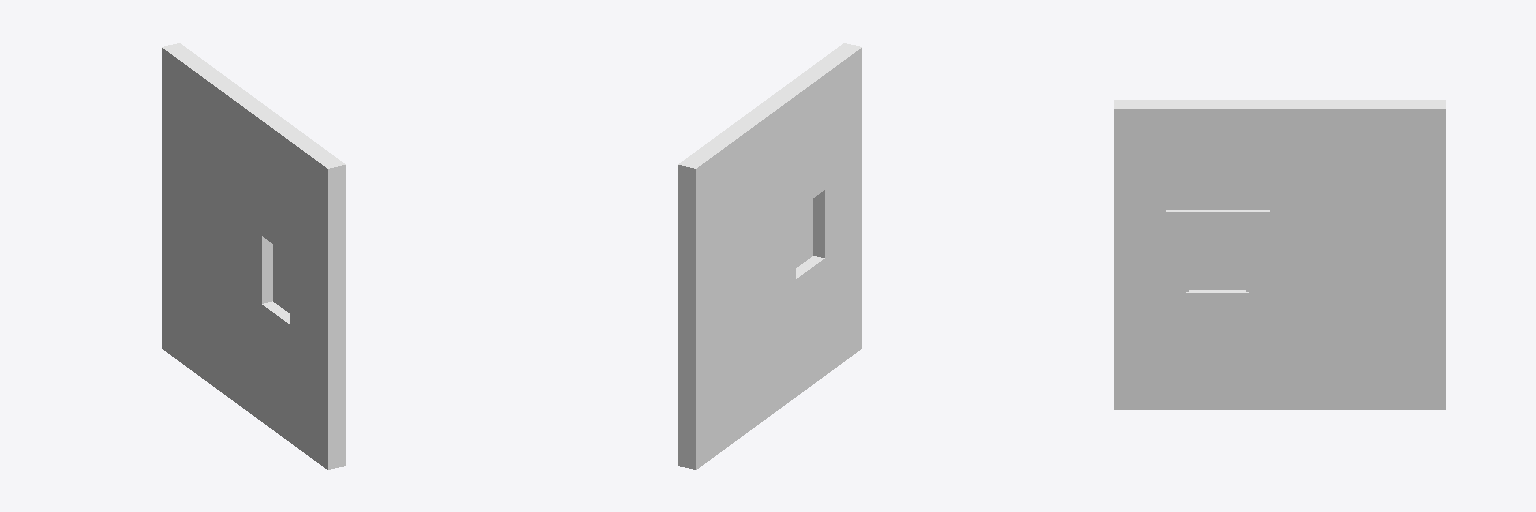
The model's file is Character_room-6-Pared01.obj.
3 views of the same model, side by side, from view 1: azimuth 30°, elevation 25°; view 2: azimuth 150°, elevation 25°; view 3: azimuth 270°, elevation 25° (orthographic).
Parts seen in each view (by area): view 1: Pared01; view 2: Pared01; view 3: Pared01.
Part boxes in pixels (x1,y1,x2,y2): Pared01: (162, 43, 345, 469); Pared01: (678, 43, 861, 469); Pared01: (1114, 100, 1445, 409).
Bounding box in the file's own units: 1 × 12.8 × 12.8.